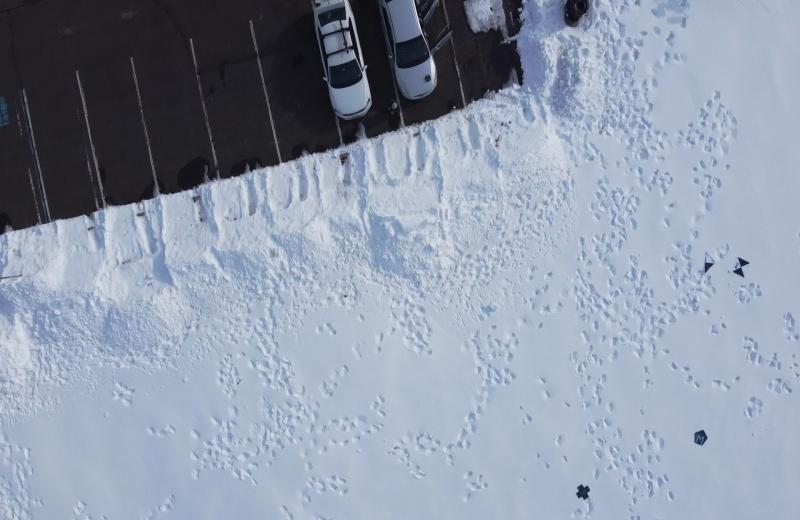Cross: (574, 483, 592, 502)
Pentagon: (692, 429, 709, 447)
